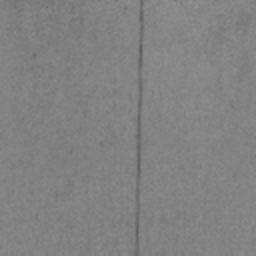Scratches: (134, 0, 146, 256)
